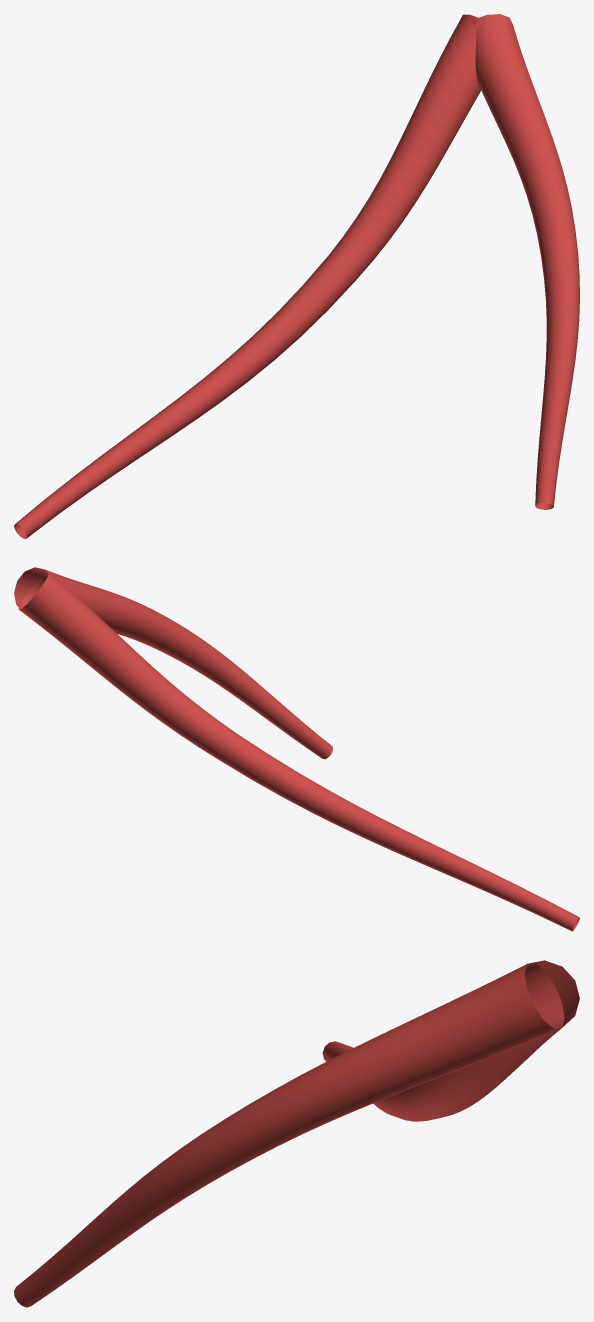
3 views of the same model, one above another, from view 1: azimuth 30°, elevation 25°; view 2: azimuth 150°, elevation 25°; view 3: azimuth 270°, elevation 25° (orthographic). The views are drawn at different scales.
Visible parts, largest first — view 1: 左侧下牙槽动脉颏支; view 2: 左侧下牙槽动脉颏支; view 3: 左侧下牙槽动脉颏支.
Part boxes in pixels (x1,y1,x2,y2): 左侧下牙槽动脉颏支: [14, 14, 579, 538]; 左侧下牙槽动脉颏支: [14, 567, 579, 931]; 左侧下牙槽动脉颏支: [14, 960, 579, 1307].
Bounding box in the file's own units: 0.0104 × 0.00591 × 0.0068.
